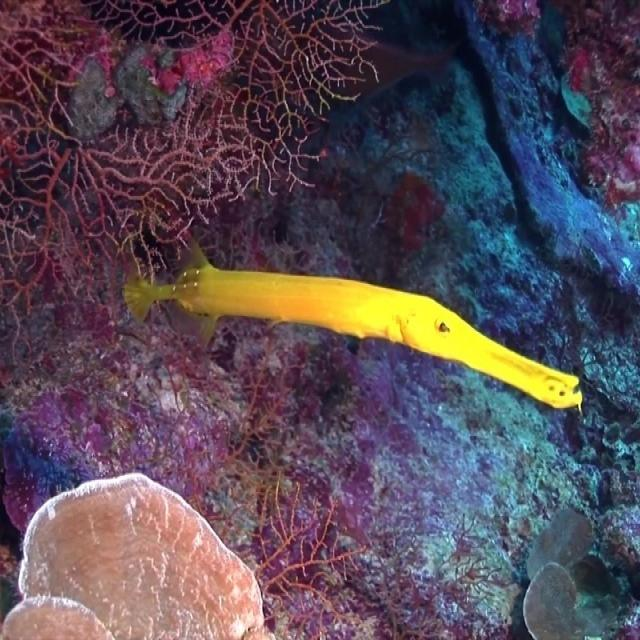fish: (127, 241, 582, 409)
reefs: (0, 1, 390, 367), (2, 475, 275, 639), (250, 472, 367, 636), (528, 510, 594, 579), (525, 564, 585, 638)
